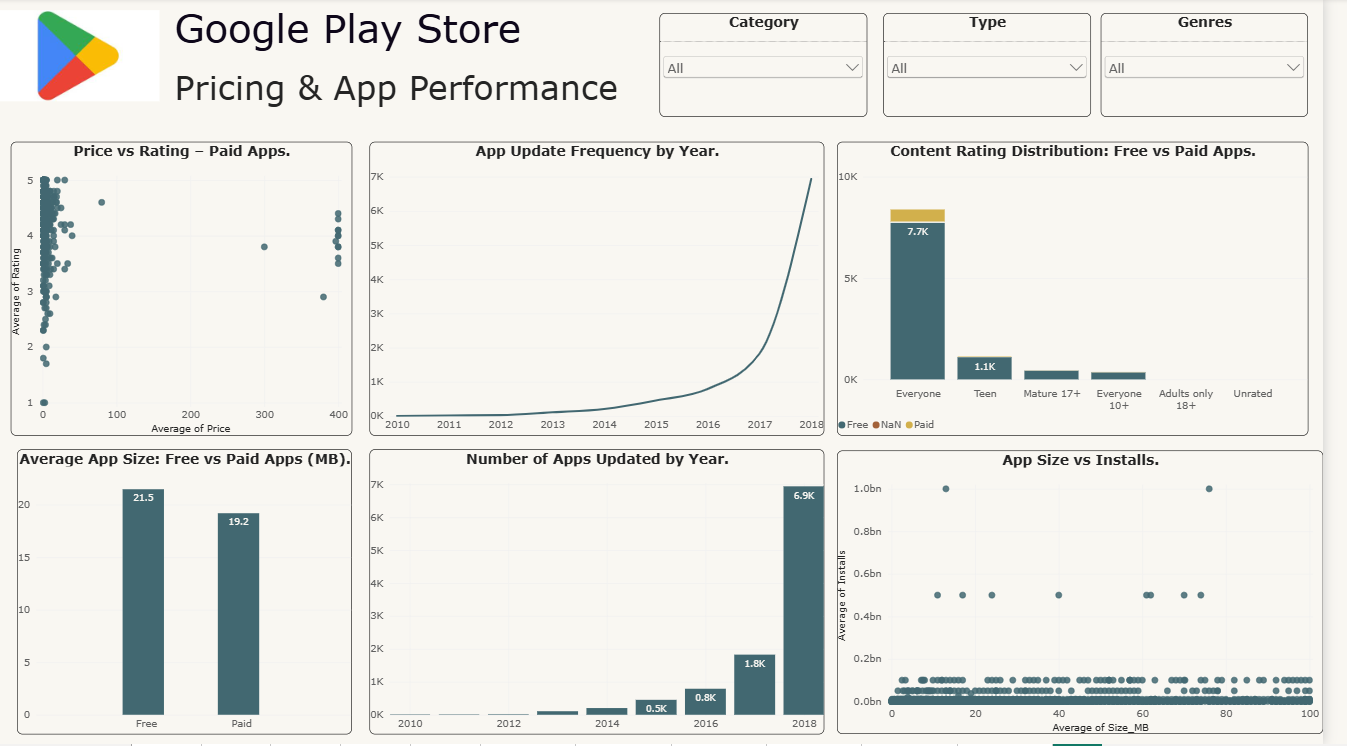

The page's visual inventory and layout, read from the dashboard file:
{"tool":"powerbi","page":{"name":"4.Pricing & App Performance","canvas":[1920,1080],"ordinal":3},"visuals":[{"type":"textbox","box":[257,99.5,749.2,72.4],"z":0},{"type":"scatterChart","title":"Price vs Rating – Paid Apps.","fields":{"Category":["googleplaystore.App"],"X":["googleplaystore.Price"],"Y":["Avg(googleplaystore.Rating)"]},"box":[19.9,208.1,494,425.3],"z":1000},{"type":"scatterChart","title":"App Size vs Installs.","fields":{"Category":["googleplaystore.App"],"X":["Avg(googleplaystore.Size_MB)"],"Y":["Avg(googleplaystore.Installs)"]},"box":[1216.1,655.1,704,410.8],"z":2000},{"type":"clusteredColumnChart","title":"Average App Size: Free vs Paid Apps (MB).","fields":{"Category":["googleplaystore.Type"],"Y":["Avg(googleplaystore.Size_MB)"]},"box":[29,653.3,485,412.6],"z":3000},{"type":"columnChart","title":"Content Rating Distribution: Free vs Paid Apps.","fields":{"Category":["googleplaystore.Content Rating"],"Series":["googleplaystore.Type"],"Y":["CountNonNull(googleplaystore.App)"]},"box":[1216.1,208.1,682.2,425.3],"z":4000},{"type":"clusteredColumnChart","title":"Number of Apps Updated by Year.","fields":{"Category":["googleplaystore.Last Updated.Variation.Date Hierarchy.Year"],"Y":["CountNonNull(googleplaystore.App)"]},"box":[539.3,653.3,658.7,412.6],"z":5000},{"type":"lineChart","title":"App Update Frequency by Year.","fields":{"Category":["googleplaystore.Last Updated.Variation.Date Hierarchy.Year"],"Y":["CountNonNull(googleplaystore.App)"]},"box":[539.3,208.1,658.7,425.3],"z":6000},{"type":"textbox","box":[300.4,36.2,658.7,81.4],"z":7000},{"type":"textbox","box":[257,9,513.9,90.5],"z":8000},{"type":"image","box":[0,0,235.3,166.5],"z":9000},{"type":"slicer","title":"Genres","fields":{"Values":["googleplaystore.Genres"]},"box":[1597.9,21.7,300,150],"z":9001},{"type":"slicer","title":"Category","fields":{"Values":["googleplaystore.Category"]},"box":[959.1,21.7,300.4,150.2],"z":9002},{"type":"slicer","title":"Type","fields":{"Values":["googleplaystore.Type"]},"box":[1283,21.7,300.4,150.2],"z":9003}]}

Visuals, with their boxes in screenshot pixels (x1, y1, x2, y2), scaled from the page's 1920x1080 canvas onto the 1347x746 screenshot:
textbox: <bbox>180, 69, 706, 119</bbox>
"Price vs Rating – Paid Apps." scatterChart: <bbox>14, 144, 361, 438</bbox>
"App Size vs Installs." scatterChart: <bbox>853, 453, 1346, 736</bbox>
"Average App Size: Free vs Paid Apps (MB)." clusteredColumnChart: <bbox>20, 451, 361, 736</bbox>
"Content Rating Distribution: Free vs Paid Apps." columnChart: <bbox>853, 144, 1332, 438</bbox>
"Number of Apps Updated by Year." clusteredColumnChart: <bbox>378, 451, 840, 736</bbox>
"App Update Frequency by Year." lineChart: <bbox>378, 144, 840, 438</bbox>
textbox: <bbox>211, 25, 673, 81</bbox>
textbox: <bbox>180, 6, 541, 69</bbox>
image: <bbox>0, 0, 165, 115</bbox>
"Genres" slicer: <bbox>1121, 15, 1331, 119</bbox>
"Category" slicer: <bbox>673, 15, 884, 119</bbox>
"Type" slicer: <bbox>900, 15, 1111, 119</bbox>
